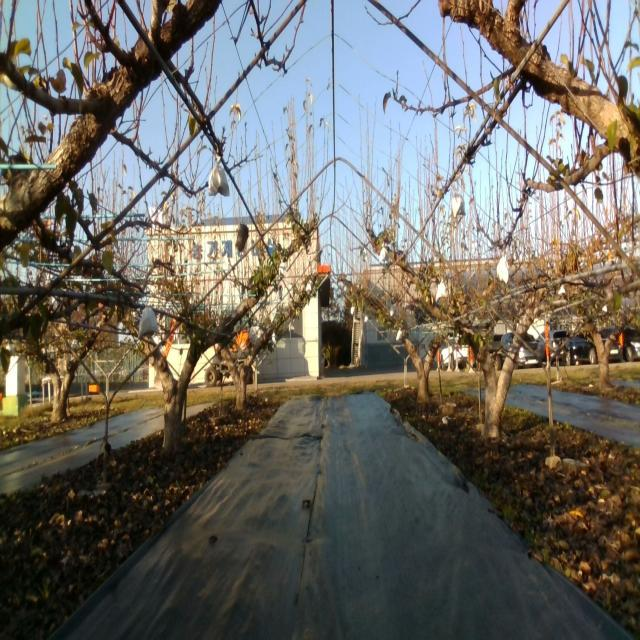pearbags: (208, 155, 230, 196), (138, 306, 160, 341), (451, 191, 466, 217), (496, 254, 508, 285), (436, 278, 446, 302)
